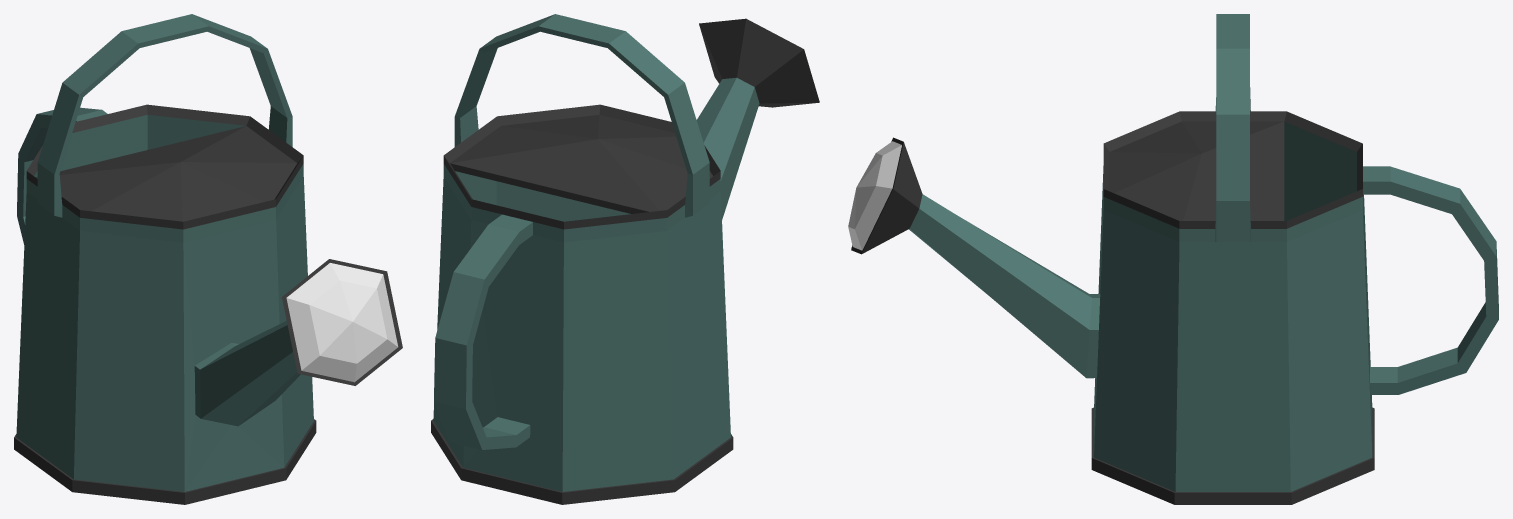
Rendered from Test_Watering_Can.fbx.
3 renders of one model, left to right at view 1: azimuth 30°, elevation 25°; view 2: azimuth 150°, elevation 25°; view 3: azimuth 270°, elevation 25°, orthographic.
Visible parts, largest first — view 1: Cylinder.002; view 2: Cylinder.002; view 3: Cylinder.002.
Part boxes in pixels (x1,y1,x2,y2): Cylinder.002: (14,14,402,504); Cylinder.002: (431,14,819,504); Cylinder.002: (848,14,1498,504).
Size of the model in its own units: 28.23 by 45.59 by 64.94.
